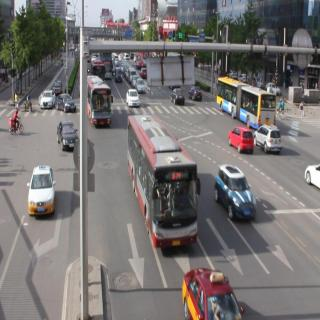BigCar: (127, 112, 200, 254), (215, 71, 272, 127), (85, 71, 112, 133)
Car: (215, 159, 256, 229), (27, 160, 55, 220), (254, 124, 288, 156), (225, 124, 252, 155), (56, 118, 80, 152), (39, 82, 54, 112), (124, 88, 142, 112), (59, 91, 73, 115), (174, 87, 186, 112), (132, 78, 152, 93), (51, 75, 62, 91), (194, 85, 202, 104)
